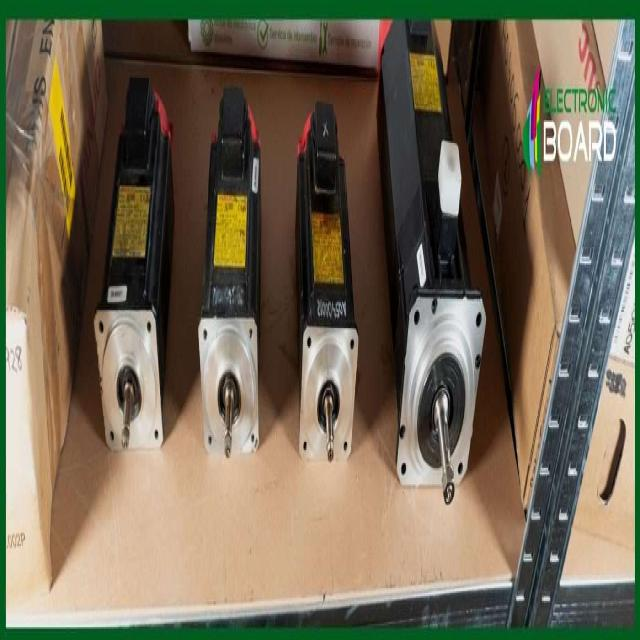servomotor: (355, 17, 490, 474), (93, 49, 195, 534), (190, 77, 272, 502), (285, 126, 365, 481)
